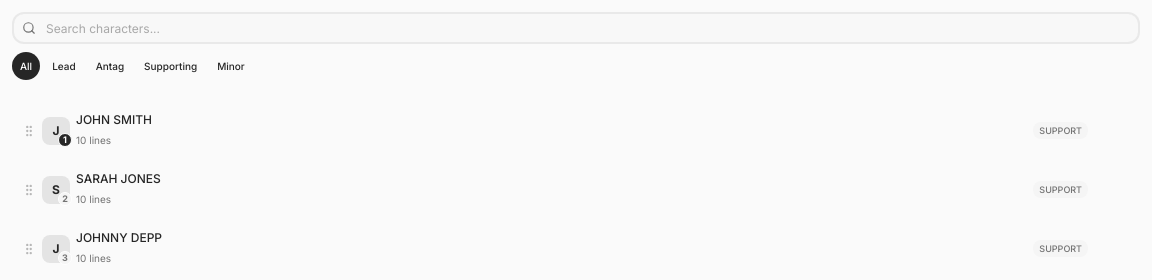
Test: CharactersPanel › filtering › should filter characters by name
Step 1. Type "JOHN" into the field with placeholder "Search characters..." → [576, 28], box [12,12,1140,44]
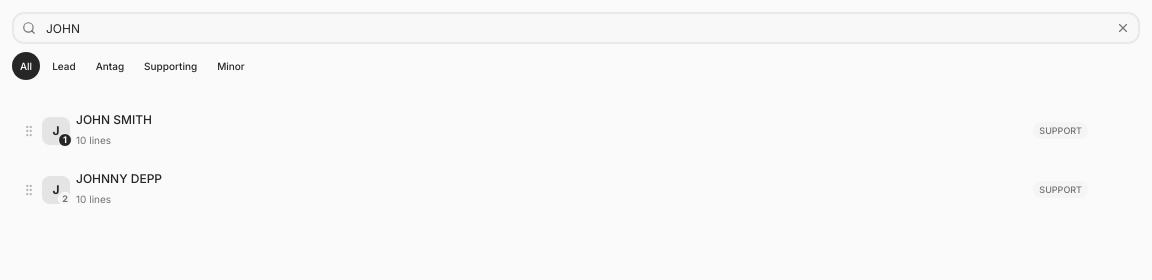
expect the heading "JOHN SMITH" is shown: met, box [76,112,152,127]
expect the button "SARAH JONES" is gone: met
